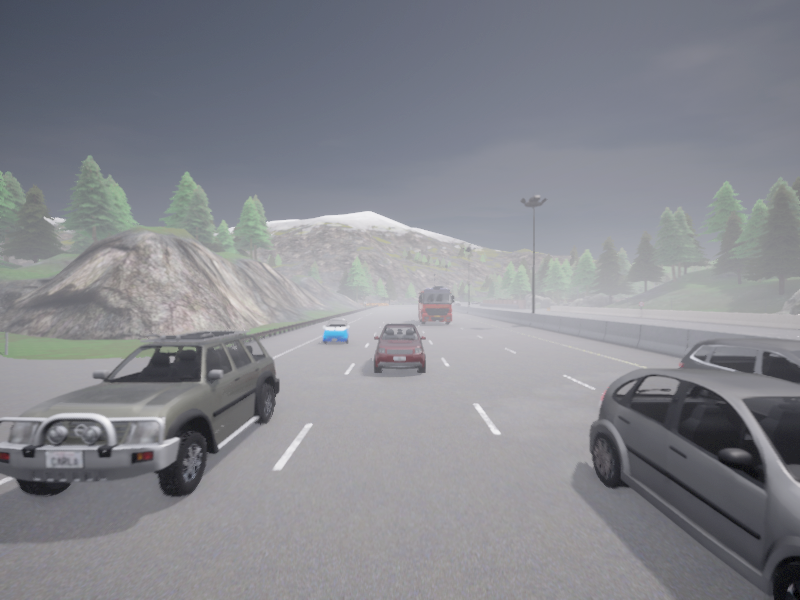vehicle: (589, 368, 799, 599), (0, 331, 279, 495), (678, 338, 799, 383), (374, 323, 425, 373), (418, 286, 454, 324), (322, 319, 349, 343), (453, 301, 459, 305), (477, 302, 481, 304), (472, 301, 476, 303)
